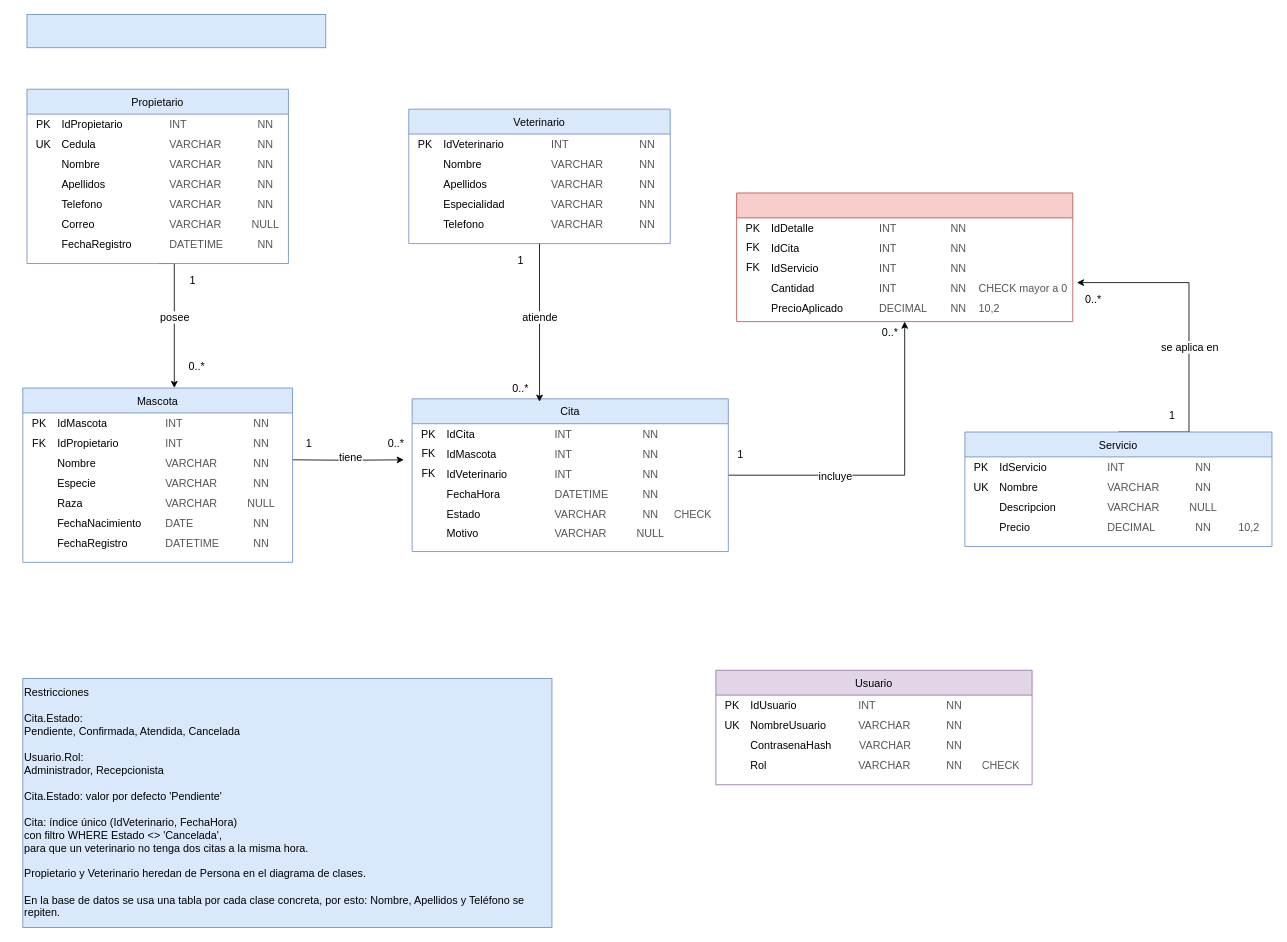
Some shapes in this 1287 by 942 pixel diagram are drawn without their labels. Each missing label, with the box of its shape:
DetalleCita: (736, 192, 1073, 322)
Modelo relacional de VetCareDB: (26, 14, 326, 48)
